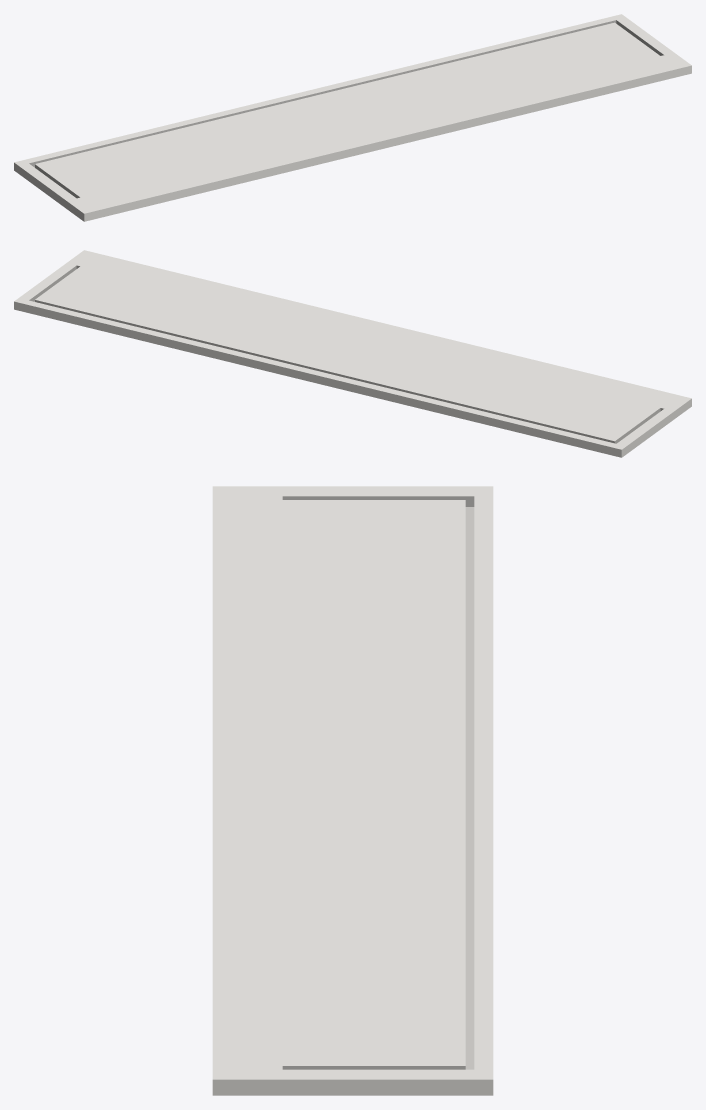
File: light-valance-panel.glb
3 views of the same model, one above another, from view 1: azimuth 30°, elevation 25°; view 2: azimuth 150°, elevation 25°; view 3: azimuth 270°, elevation 25° (orthographic). The views are drawn at different scales.
Parts seen in each view (by area): view 1: part_0; view 2: part_0; view 3: part_0.
Boxes of the visible parts, x1,y1,x2,y2 form: part_0: [14, 14, 691, 221]; part_0: [14, 250, 691, 457]; part_0: [212, 486, 493, 1095].
Size of the model in its own units: 1.52 by 0.0193 by 0.3048.
Materials: 1 (1 with a texture image).
